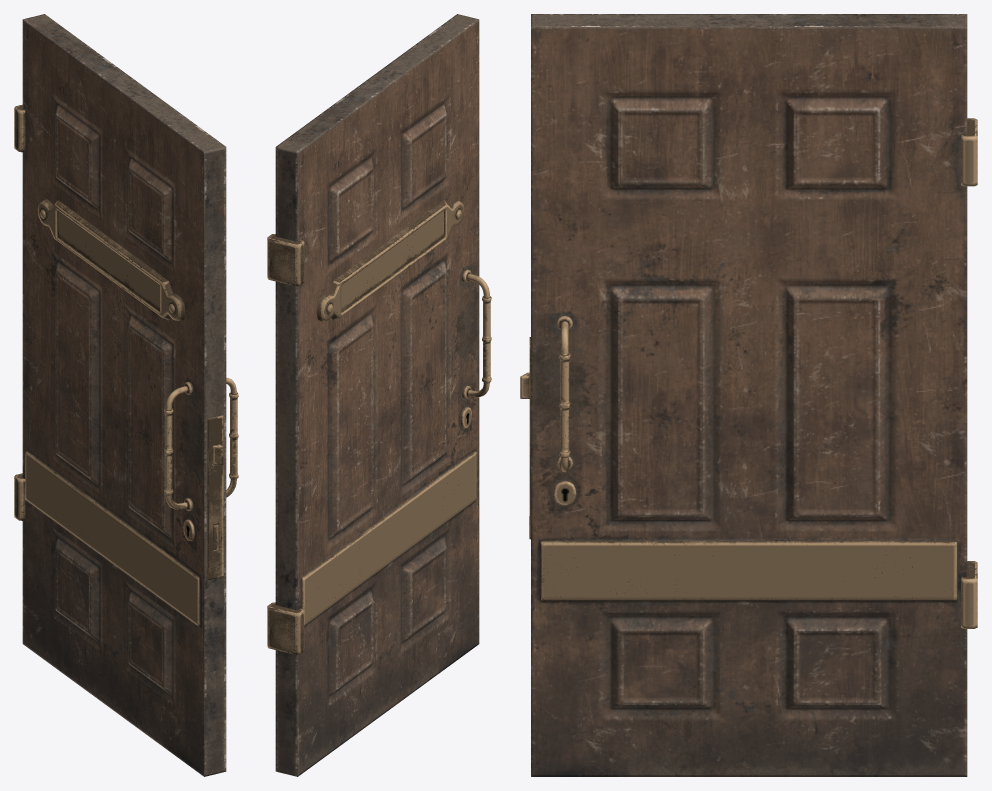
The model's file is SM_Door01_2_LOD0.glb.
3 renders of one model, left to right at view 1: azimuth 30°, elevation 25°; view 2: azimuth 150°, elevation 25°; view 3: azimuth 270°, elevation 25°, orthographic. The views are drawn at different scales.
Parts seen in each view (by area): view 1: SM_Door01_2_LOD0; view 2: SM_Door01_2_LOD0; view 3: SM_Door01_2_LOD0.
Boxes of the visible parts, x1,y1,x2,y2 form: SM_Door01_2_LOD0: (14,14,238,776); SM_Door01_2_LOD0: (267,14,491,776); SM_Door01_2_LOD0: (520,14,977,776).
Bounding box in the file's own units: 0.2521 × 2.04 × 1.13.
Materials: 1 (1 with a texture image).
